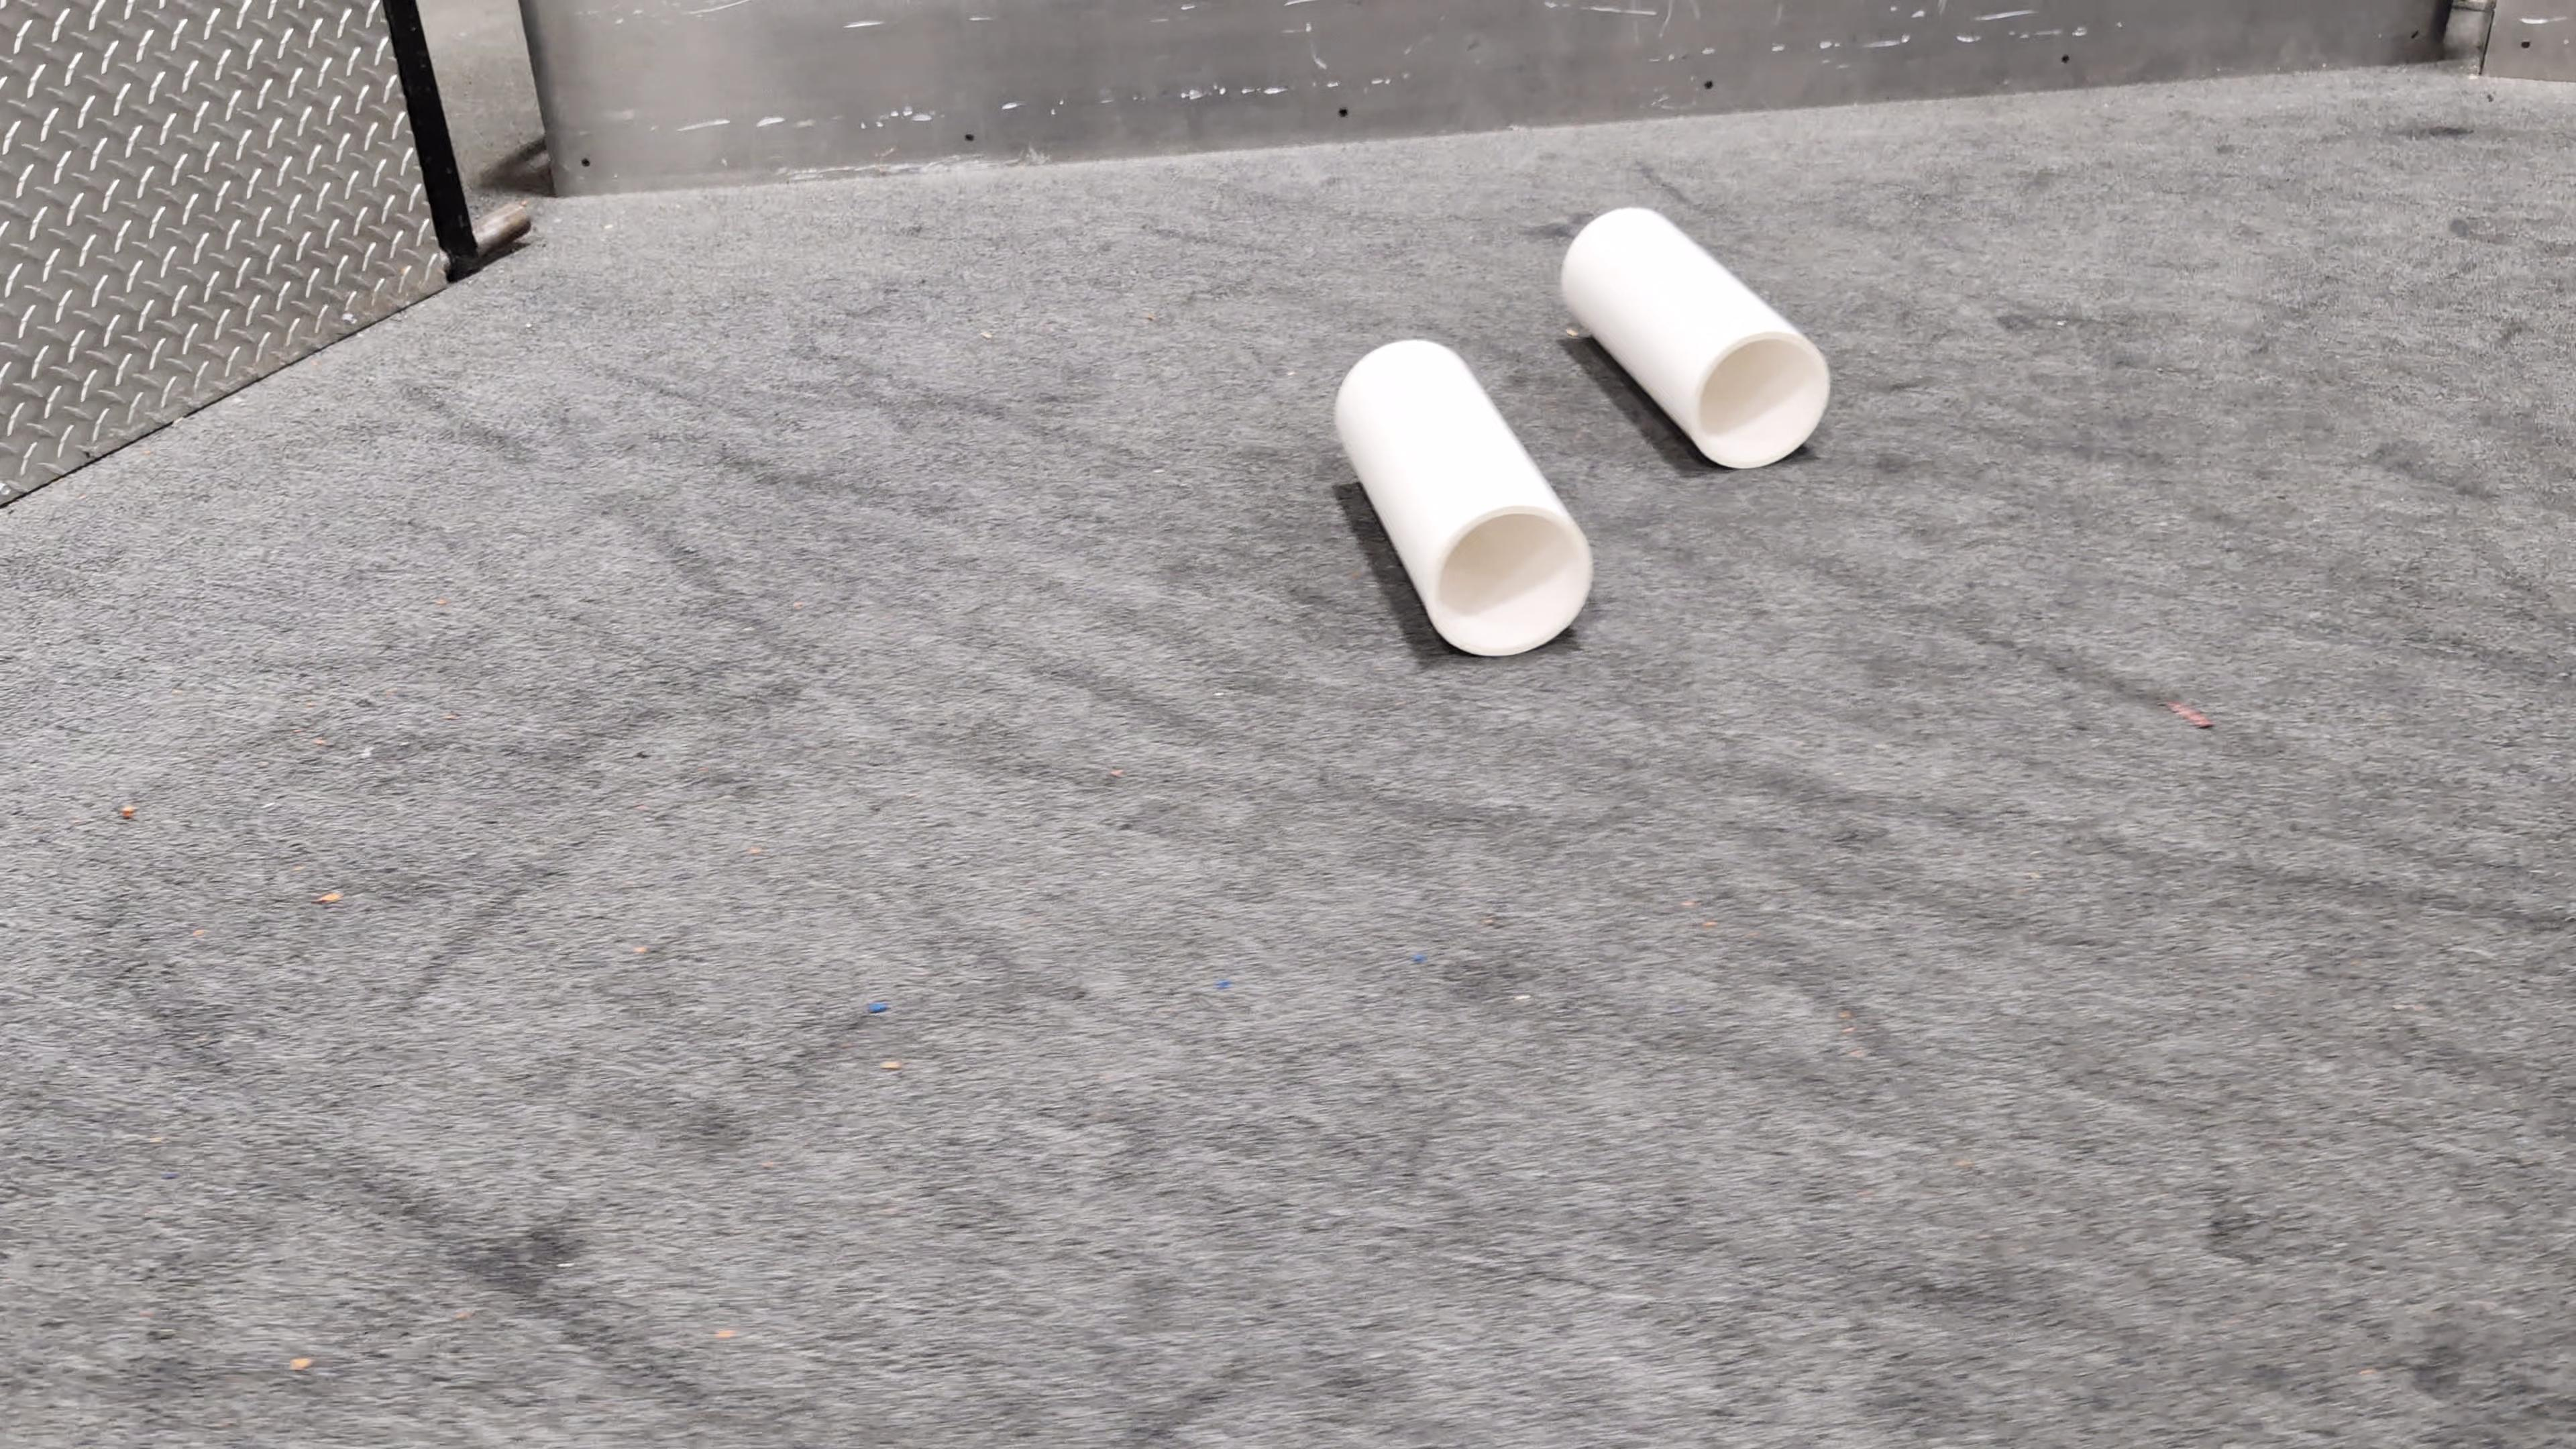coral: (1334, 340, 1592, 658), (1564, 205, 1831, 469)
